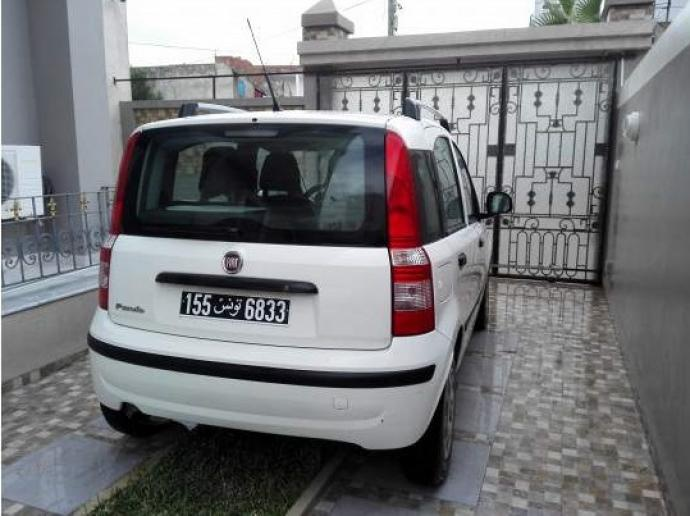LP: (177, 289, 293, 330)
